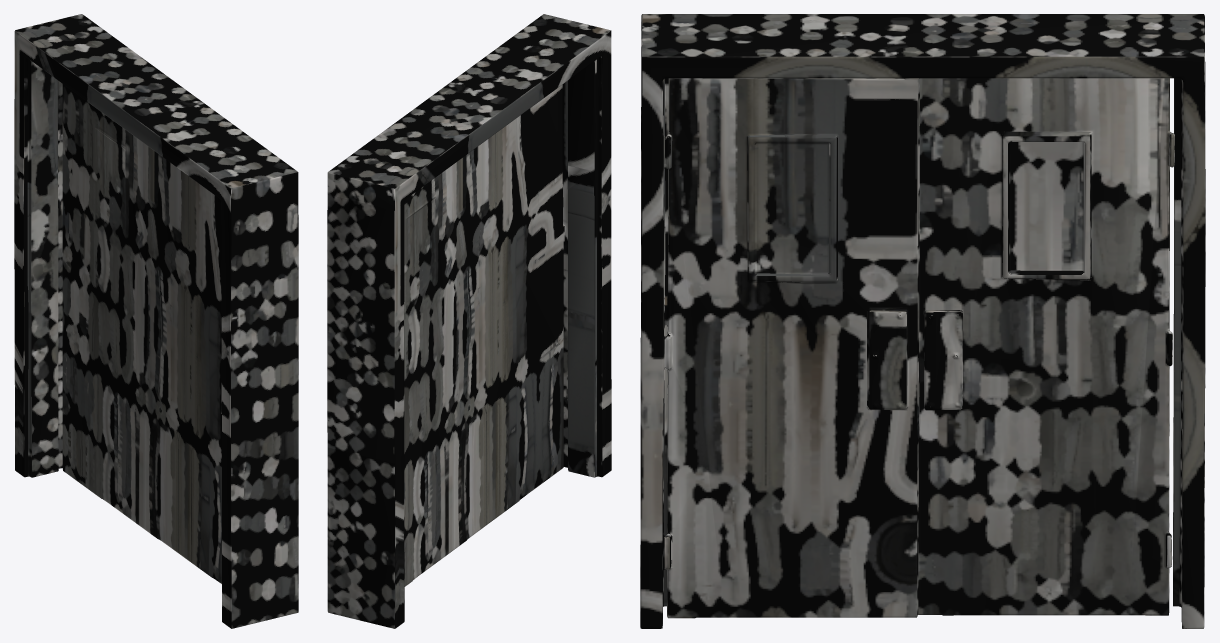
3 renders of one model, left to right at view 1: azimuth 30°, elevation 25°; view 2: azimuth 150°, elevation 25°; view 3: azimuth 270°, elevation 25°, orthographic. The views are drawn at different scales.
Visible parts, largest first — view 1: repaired; view 2: repaired; view 3: repaired.
Part boxes in pixels (bbox=[...]): repaired: bbox=[14, 14, 298, 628]; repaired: bbox=[327, 14, 611, 628]; repaired: bbox=[640, 14, 1205, 628].
Size of the model in its own units: 0.1625 by 1 by 0.894.
